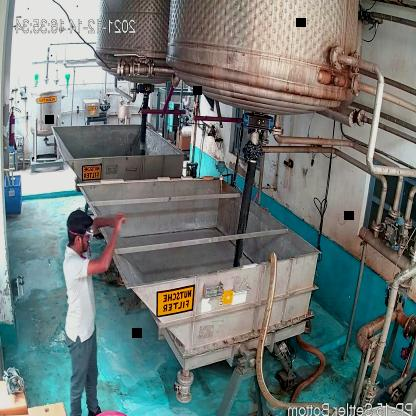no_glove: (98, 217, 126, 274)
